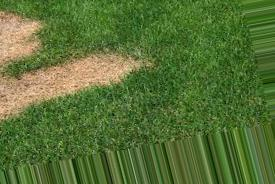patch: (4, 20, 35, 108), (39, 68, 92, 86), (84, 59, 121, 79)
